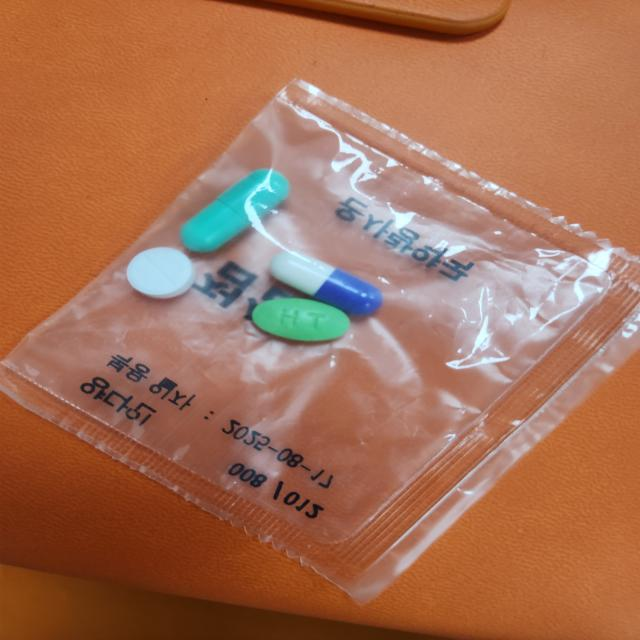러키펜정: (125, 247, 194, 302)
씨엠지세파클러캡슐: (270, 252, 384, 321)
에르도캡슐: (180, 170, 291, 256)
휴티렌정: (248, 295, 348, 347)
